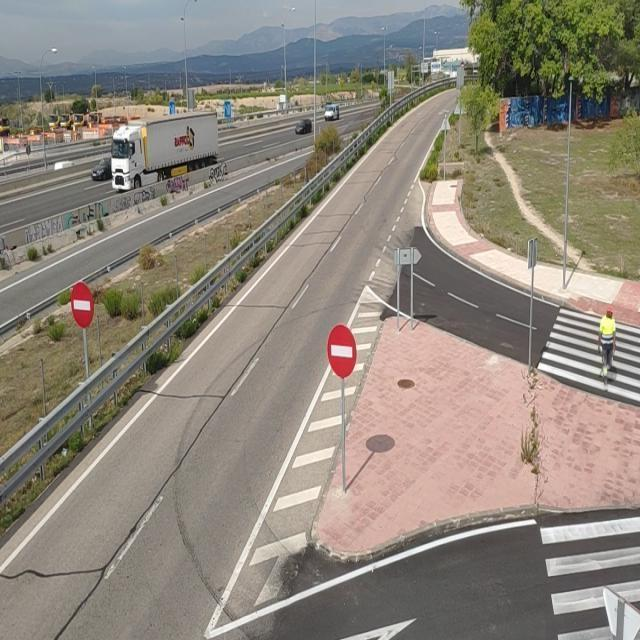Car: (90, 156, 113, 181), (294, 118, 312, 134)
Truck: (110, 110, 219, 192)
Van: (323, 103, 340, 121)
